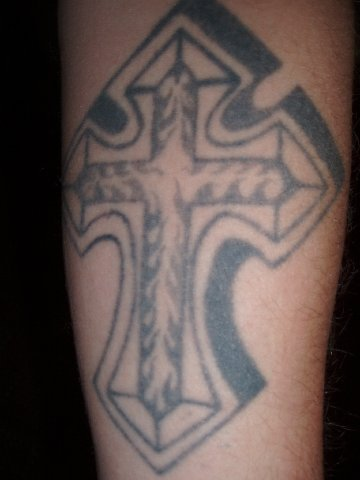tatu9_krest: (71, 9, 326, 471)
